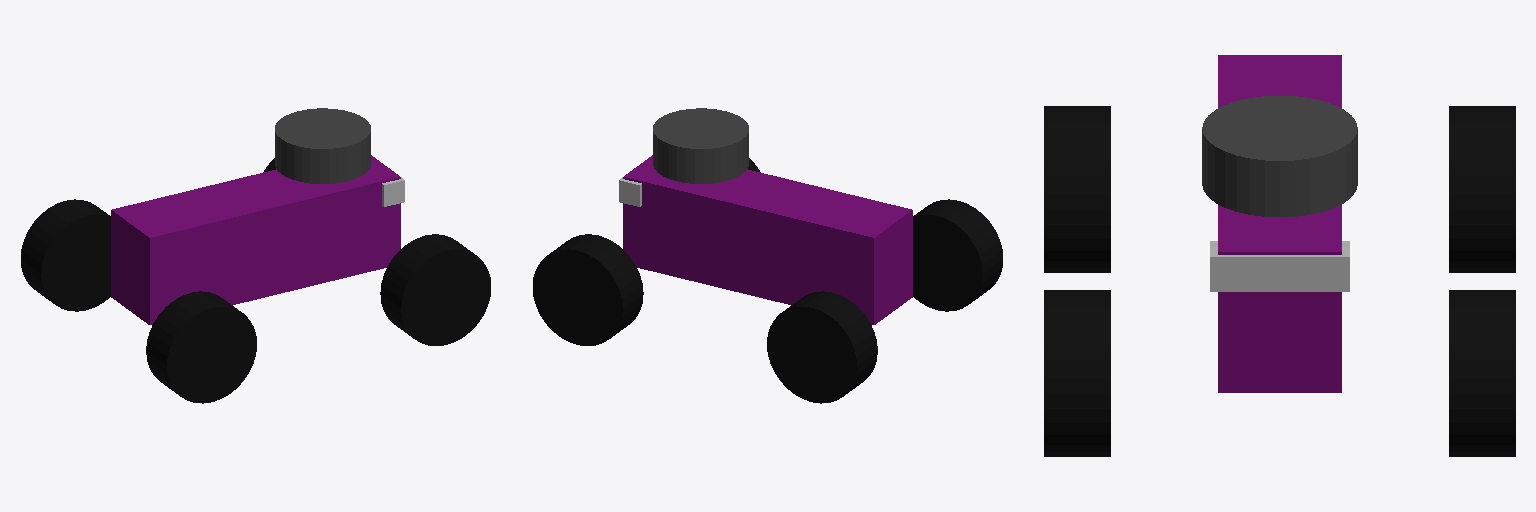
The robot description file, URDF, robot "car":
<?xml version="1.0" ?>
<!-- =================================================================================== -->
<!-- |    This document was autogenerated by xacro from car.urdf.xacro                 | -->
<!-- |    EDITING THIS FILE BY HAND IS NOT RECOMMENDED                                 | -->
<!-- =================================================================================== -->
<robot name="car">
  <material name="pla">
    <color rgba="0.5 0.1 0.5 1.0"/>
  </material>
  <material name="pla_black">
    <color rgba="0.3 0.3 0.3 1.0"/>
  </material>
  <material name="aluminum">
    <color rgba="0.75 0.75 0.75 1.0"/>
  </material>
  <material name="rubber">
    <color rgba="0.1 0.1 0.1 1"/>
  </material>
  <link name="base_link">
    <inertial>
      <origin rpy="0 -0 0" xyz="0 -0 0.01"/>
      <mass value="1.2"/>
      <inertia ixx="0.00164" ixy="0" ixz="0" iyy="0.01" iyz="0" izz="0.00964"/>
    </inertial>
    <visual>
      <origin rpy="0 -0 0" xyz="-0 0 0.095"/>
      <geometry>
        <box size="0.3 0.08 0.1"/>
      </geometry>
      <material name="pla"/>
    </visual>
    <collision>
      <origin rpy="0 -0 0" xyz="-0 0 0.1"/>
      <geometry>
        <box size="0.34 0.1 0.1"/>
      </geometry>
    </collision>
  </link>
  <link name="base_footprint"/>
  <joint name="base_joint" type="fixed">
    <parent link="base_link"/>
    <child link="base_footprint"/>
    <origin rpy="0.0 0.0 0.0" xyz="0.0 0.0 -0.0"/>
  </joint>
  <link name="base_laser">
    <inertial>
      <mass value="0.0"/>
      <inertia ixx="0.0" ixy="0.0" ixz="0.0" iyy="0.0" iyz="0.0" izz="0.0"/>
    </inertial>
    <collision>
      <geometry>
        <cylinder length="0.04" radius="0.05"/>
      </geometry>
    </collision>
    <visual>
      <geometry>
        <cylinder length="0.04" radius="0.05"/>
      </geometry>
      <material name="pla_black"/>
    </visual>
  </link>
  <link name="camera_link">
    <inertial>
      <mass value="0.0"/>
      <inertia ixx="0.0" ixy="0.0" ixz="0.0" iyy="0.0" iyz="0.0" izz="0.0"/>
    </inertial>
    <collision>
      <geometry>
        <box size="0.025 0.09 0.025"/>
      </geometry>
    </collision>
    <visual>
      <geometry>
        001
            
        <box size="0.025 0.09 0.025"/>
      </geometry>
      <material name="aluminum"/>
    </visual>
  </link>
  <link name="rear_left_wheel">
    <inertial>
      <mass value="0.1"/>
      <inertia ixx="0.0000729" ixy="0" ixz="0" iyy="0.0000729" iyz="0" izz="0.0001458"/>
    </inertial>
    <visual>
      <geometry>
        <cylinder length="0.043" radius="0.054"/>
      </geometry>
      <material name="rubber"/>
    </visual>
    <collision name="collision">
      <geometry>
        <cylinder length="0.043" radius="0.054"/>
      </geometry>
    </collision>
  </link>
  <link name="rear_right_wheel">
    <inertial>
      <mass value="0.1"/>
      <inertia ixx="0.0000729" ixy="0" ixz="0" iyy="0.0000729" iyz="0" izz="0.0001458"/>
    </inertial>
    <visual>
      <geometry>
        <cylinder length="0.043" radius="0.054"/>
      </geometry>
      <material name="rubber"/>
    </visual>
    <collision name="collision">
      <geometry>
        <cylinder length="0.043" radius="0.054"/>
      </geometry>
    </collision>
  </link>
  <link name="front_left_wheel">
    <inertial>
      <mass value="0.1"/>
      <inertia ixx="0.0000729" ixy="0" ixz="0" iyy="0.0000729" iyz="0" izz="0.0001458"/>
    </inertial>
    <visual>
      <geometry>
        <cylinder length="0.043" radius="0.054"/>
      </geometry>
      <material name="rubber"/>
    </visual>
    <collision name="collision">
      <geometry>
        <cylinder length="0.043" radius="0.054"/>
      </geometry>
    </collision>
  </link>
  <link name="front_right_wheel">
    <inertial>
      <mass value="0.1"/>
      <inertia ixx="0.0000729" ixy="0" ixz="0" iyy="0.0000729" iyz="0" izz="0.0001458"/>
    </inertial>
    <visual>
      <geometry>
        <cylinder length="0.043" radius="0.054"/>
      </geometry>
      <material name="rubber"/>
    </visual>
    <collision name="collision">
      <geometry>
        <cylinder length="0.043" radius="0.054"/>
      </geometry>
    </collision>
  </link>
  <link name="front_left_hub">
    <inertial>
      <mass value="0.0"/>
      <inertia ixx="0.0" ixy="0" ixz="0" iyy="0.0" iyz="0" izz="0.0"/>
    </inertial>
    <collision name="collision">
      <geometry>
        <box size="0.05 0.08 0.05"/>
      </geometry>
    </collision>
  </link>
  <link name="front_right_hub">
    <inertial>
      <mass value="0.0"/>
      <inertia ixx="0.0" ixy="0" ixz="0" iyy="0.0" iyz="0" izz="0.0"/>
    </inertial>
    <collision name="collision">
      <geometry>
        <box size="0.05 0.08 0.05"/>
      </geometry>
    </collision>
  </link>
  <joint name="lidar_sensor_joint" type="fixed">
    <origin rpy="0 0 0" xyz="0.08 -0 0.18"/>
    <parent link="base_link"/>
    <child link="base_laser"/>
  </joint>
  <joint name="camera_sensor_joint" type="fixed">
    <origin rpy="0 0 0" xyz="0.14 -0 0.13"/>
    <parent link="base_link"/>
    <child link="camera_link"/>
  </joint>
  <joint name="rear_left_wheel_joint" type="continuous">
    <origin rpy="-1.5707 0 0" xyz="-0.14 0.13 0.054"/>
    <parent link="base_link"/>
    <child link="rear_left_wheel"/>
    <axis xyz="0 0 1"/>
  </joint>
  <joint name="rear_right_wheel_joint" type="continuous">
    <origin rpy="-1.5707 0 0" xyz="-0.14 -0.13 0.054"/>
    <parent link="base_link"/>
    <child link="rear_right_wheel"/>
    <axis xyz="0 0 1"/>
  </joint>
  <joint name="front_left_wheel_joint" type="continuous">
    <origin rpy="-1.5707 0 0" xyz="-0 0.02 0"/>
    <parent link="front_left_hub"/>
    <child link="front_left_wheel"/>
    <axis xyz="0 0 1"/>
  </joint>
  <joint name="front_right_wheel_joint" type="continuous">
    <origin rpy="-1.5707 0 0" xyz="-0 -0.02 0"/>
    <parent link="front_right_hub"/>
    <child link="front_right_wheel"/>
    <axis xyz="0 0 1"/>
  </joint>
  <joint name="front_left_hub_joint" type="revolute">
    <origin rpy="0 0 0" xyz="0.14 0.11 0.054"/>
    <limit effort="1000" lower="-0.5" upper="0.5" velocity="100.0"/>
    <parent link="base_link"/>
    <child link="front_left_hub"/>
    <axis xyz="0 0 1"/>
  </joint>
  <joint name="front_right_hub_joint" type="revolute">
    <origin rpy="0 0 0" xyz="0.14 -0.11 0.054"/>
    <limit effort="1000" lower="-0.5" upper="0.5" velocity="100.0"/>
    <parent link="base_link"/>
    <child link="front_right_hub"/>
    <axis xyz="0 0 1"/>
  </joint>
</robot>

--- Facts derived from the render (not from the file) ---
The picture shows the robot from 3 angles, left to right: view 1: azimuth 30°, elevation 25°; view 2: azimuth 150°, elevation 25°; view 3: azimuth 270°, elevation 25°; orthographic projection.
Model car with 10 links and 9 joints (2 revolute, 4 continuous, 3 fixed), rooted at base_link, posed all joints at 0.
Links seen in each view (by area): view 1: base_link, front_right_wheel, rear_right_wheel, rear_left_wheel, base_laser, camera_link; view 2: base_link, front_left_wheel, rear_left_wheel, rear_right_wheel, base_laser, camera_link; view 3: base_link, base_laser, rear_left_wheel, rear_right_wheel, front_left_wheel, front_right_wheel, camera_link.
Link boxes in pixels (x1,y1,x2,y2): base_link: (111,155,400,324); front_right_wheel: (380,234,490,345); rear_right_wheel: (146,291,256,403); rear_left_wheel: (21,199,110,311); base_laser: (275,108,370,183); camera_link: (382,177,404,206); base_link: (623,155,912,324); front_left_wheel: (533,234,643,345); rear_left_wheel: (767,291,877,403); rear_right_wheel: (913,199,1002,311); base_laser: (653,108,748,183); camera_link: (619,177,641,206); base_link: (1218,55,1341,392); base_laser: (1202,95,1357,216); rear_left_wheel: (1449,106,1515,272); rear_right_wheel: (1044,106,1110,272); front_left_wheel: (1449,290,1515,456); front_right_wheel: (1044,290,1110,456); camera_link: (1210,241,1349,291).
Size in the robot's own frame: 0.388 by 0.303 by 0.2 metres.
Geometry: primitives only (box / cylinder / sphere), no mesh files.